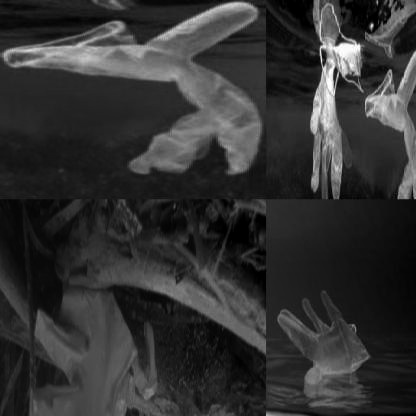Mask: (320, 33, 362, 96)
glove: (2, 1, 264, 179), (19, 274, 158, 415), (279, 288, 370, 382), (364, 47, 416, 198), (309, 77, 352, 198)
